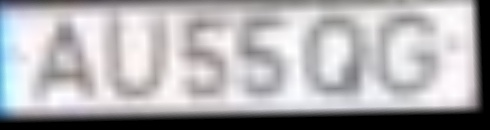5: (237, 17, 296, 106), (180, 19, 236, 104)
A: (27, 18, 108, 104)
G: (376, 11, 447, 102)
Q: (297, 13, 374, 100)
U: (101, 11, 179, 110)
